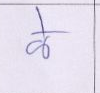o_matra: (38, 9, 50, 57)
